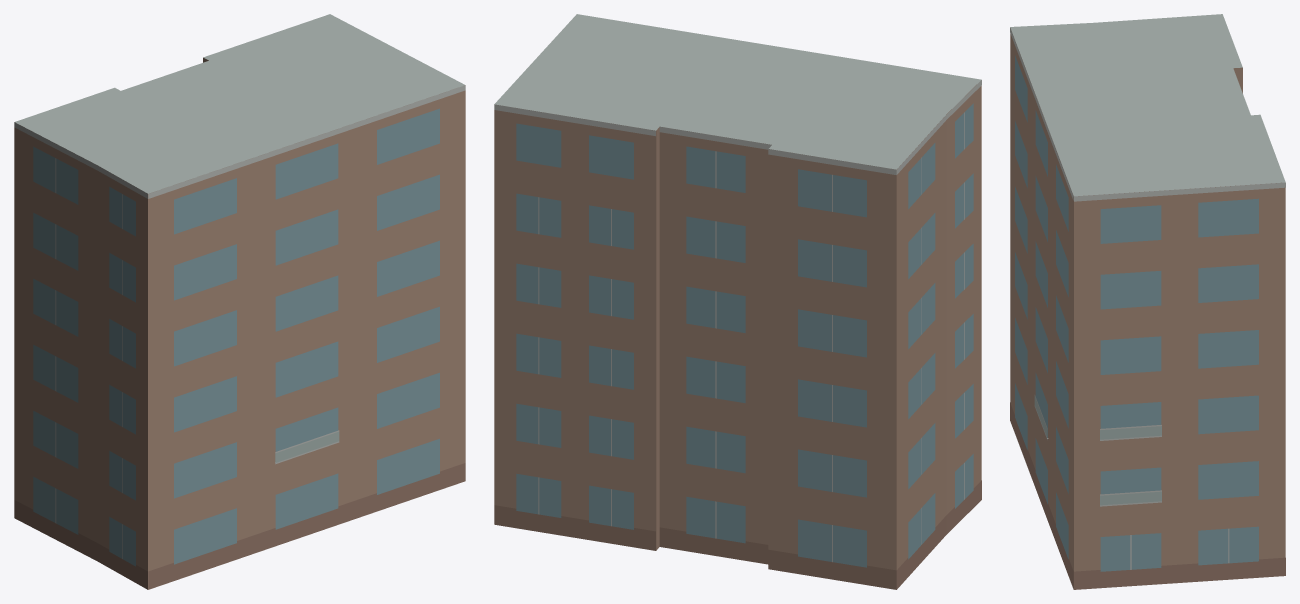
File: survey-upis-32970835.glb
3 renders of one model, left to right at view 1: azimuth 30°, elevation 25°; view 2: azimuth 150°, elevation 25°; view 3: azimuth 270°, elevation 25°, orthographic. The views are drawn at different scales.
Visible parts, largest first — view 1: survey-upis-32970835.tmp; view 2: survey-upis-32970835.tmp; view 3: survey-upis-32970835.tmp.
Part boxes in pixels (left/top/right/bottom): survey-upis-32970835.tmp: left=14, top=14, right=465, bottom=589; survey-upis-32970835.tmp: left=494, top=14, right=981, bottom=589; survey-upis-32970835.tmp: left=1010, top=14, right=1285, bottom=589.
Bounding box in the file's own units: 18.2 × 18.3 × 11.63.
